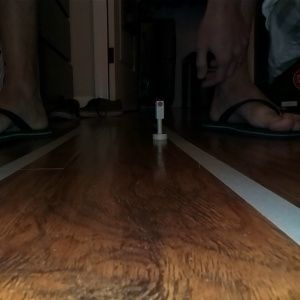traffic light red: (151, 97, 169, 145)
